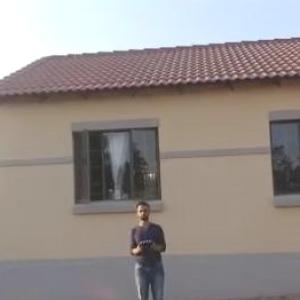follow: (127, 195, 174, 299)
